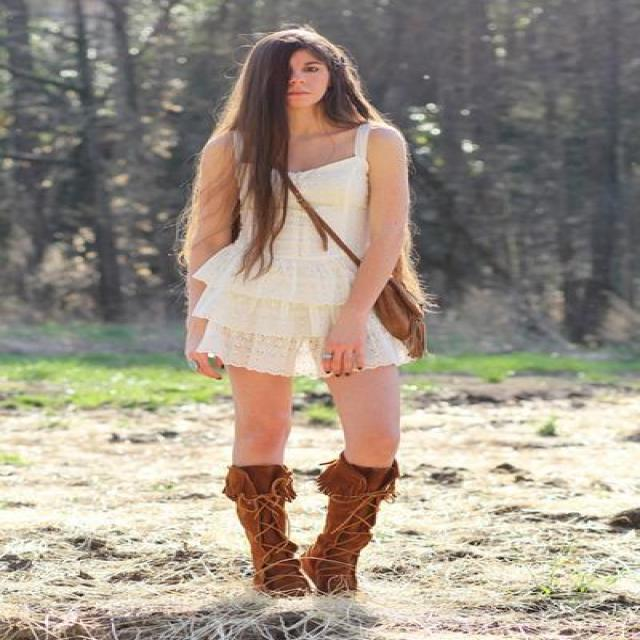bag: (372, 278, 450, 358)
dress: (187, 148, 413, 379)
shoe: (222, 452, 414, 596)
